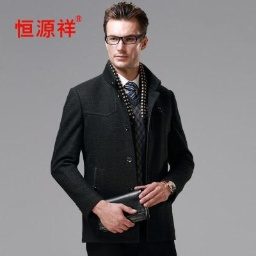face: (101, 3, 151, 68)
